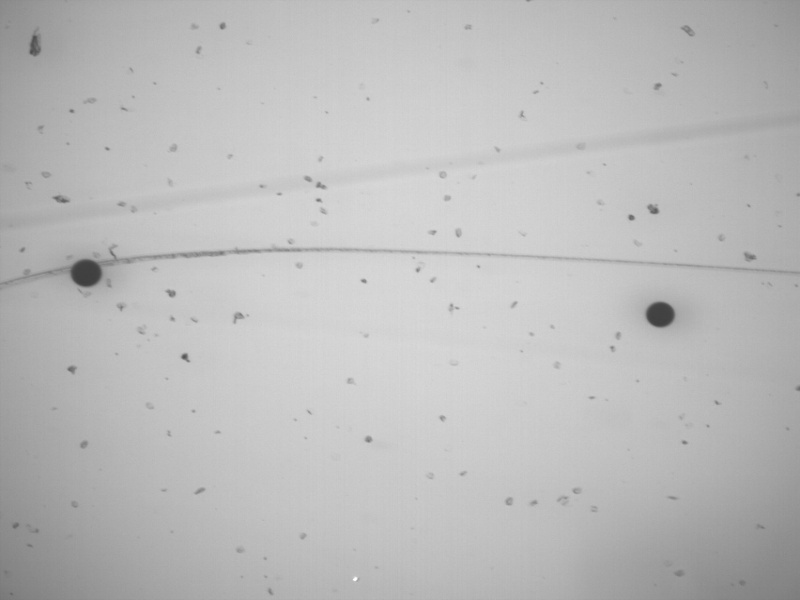bead: (70, 258, 105, 288), (644, 300, 677, 328)
